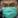with_mask: (1, 1, 18, 18)
